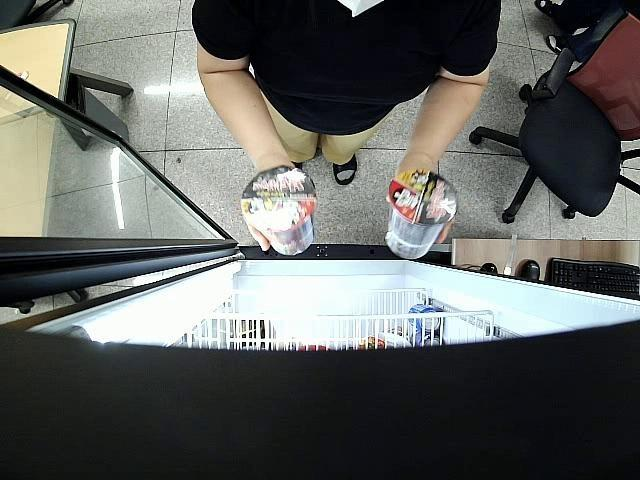08_buldak_S: (244, 167, 319, 259), (388, 171, 457, 259)
